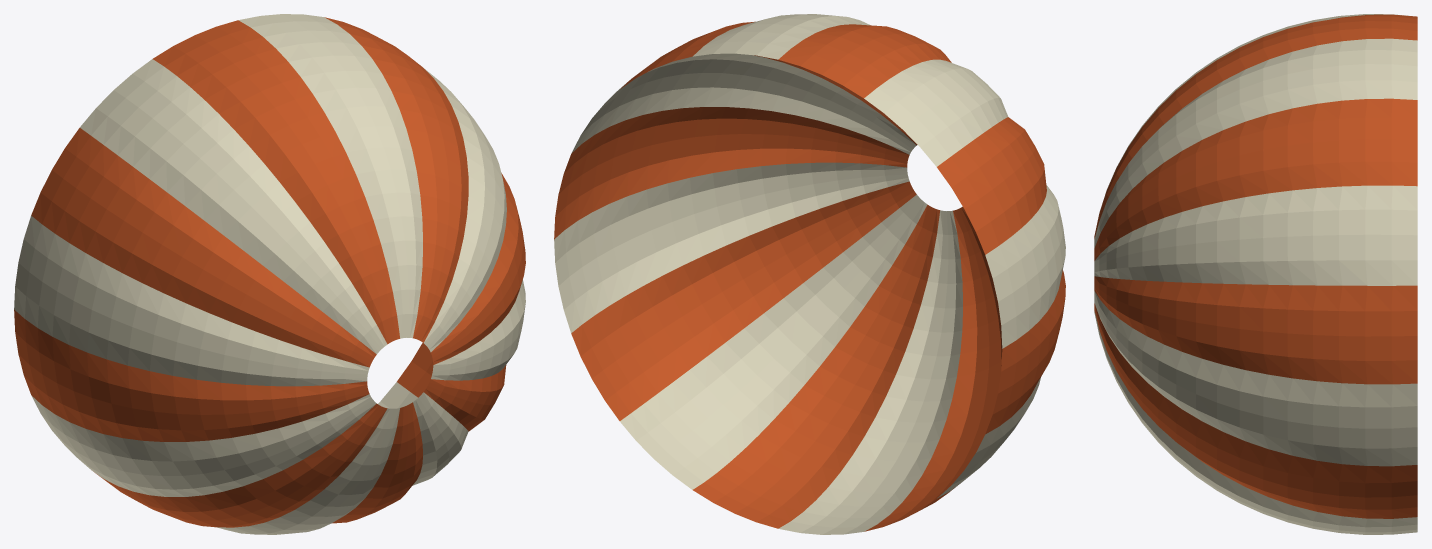
Rendered from parachute_packed.obj.
3 views of the same model, side by side, from view 1: azimuth 30°, elevation 25°; view 2: azimuth 150°, elevation 25°; view 3: azimuth 270°, elevation 25° (orthographic).
Visible parts, largest first — view 1: parachute_packed; view 2: parachute_packed; view 3: parachute_packed.
Boxes of the visible parts, <box> form: parachute_packed: <box>14,14,525,534</box>; parachute_packed: <box>554,14,1065,534</box>; parachute_packed: <box>1094,14,1417,534</box>.
Bounding box in the file's own units: 0.4782 × 0.4782 × 0.2972.
